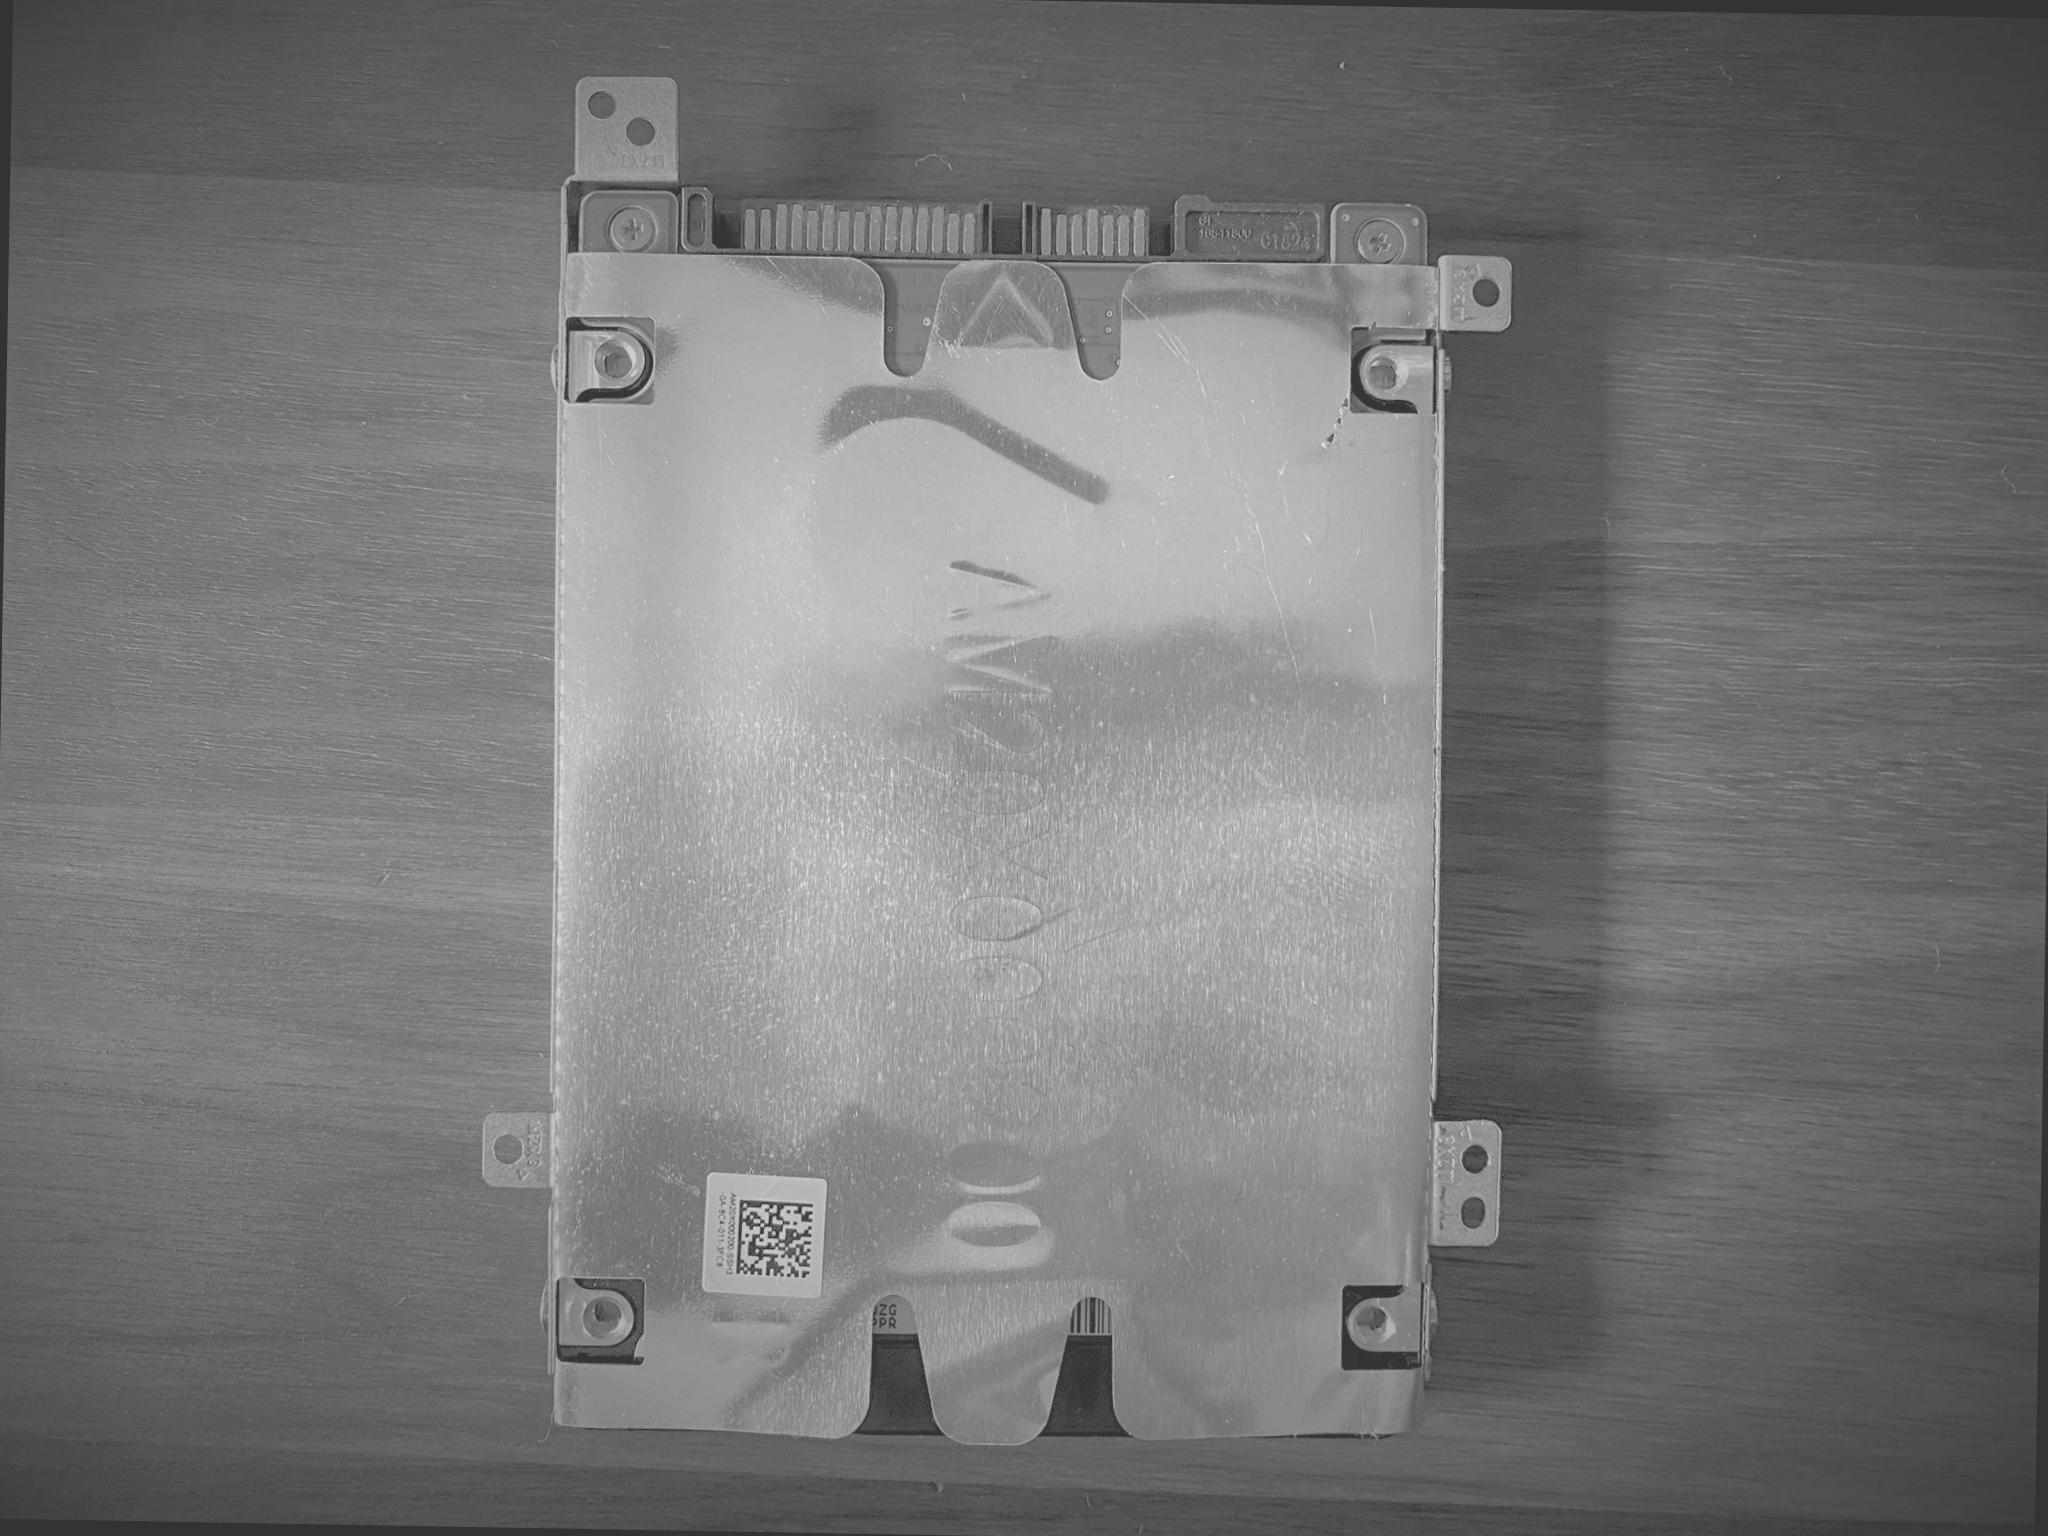philips-PZ: (1355, 218, 1406, 266), (606, 207, 656, 252)
